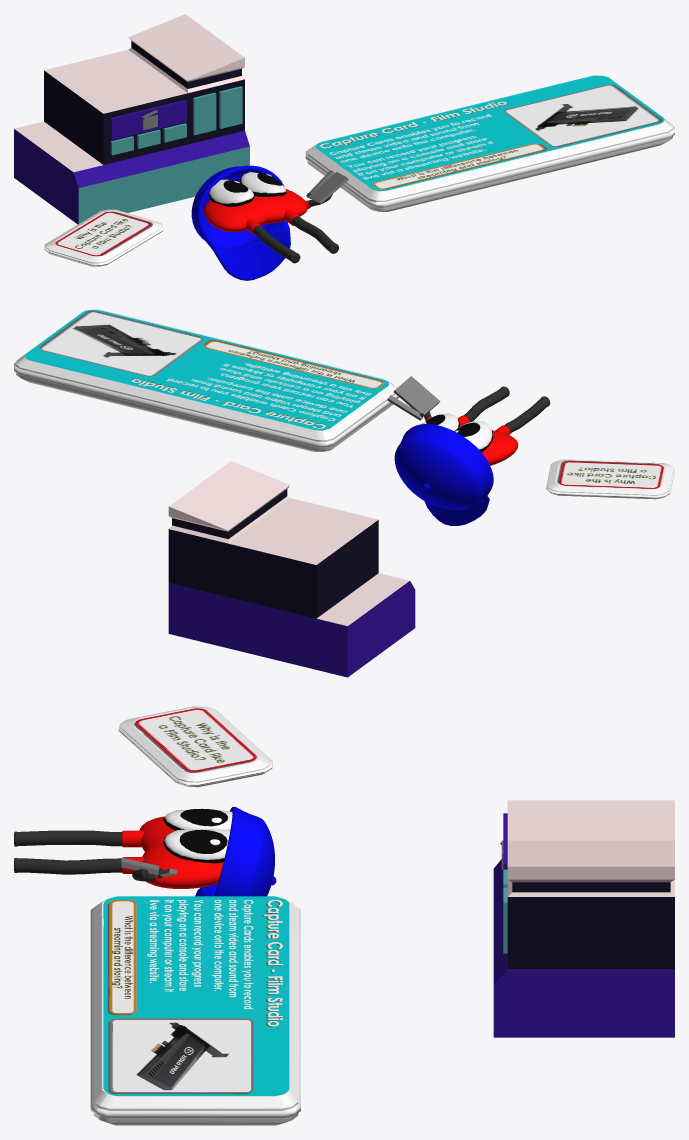
Rendered from combined_capture_card.obj.
3 renders of one model, top to bottom at view 1: azimuth 30°, elevation 25°; view 2: azimuth 150°, elevation 25°; view 3: azimuth 270°, elevation 25°, orthographic. The views are drawn at different scales.
Visible parts, largest first — view 1: mod_studio, capture1, char_9, capture2; view 2: mod_studio, capture1, char_9, capture2; view 3: capture1, mod_studio, char_9, capture2.
Boxes of the visible parts, bbox=[...] form: mod_studio: bbox=[14, 14, 249, 224]; capture1: bbox=[305, 75, 674, 211]; char_9: bbox=[191, 165, 348, 280]; capture2: bbox=[44, 209, 163, 266]; mod_studio: bbox=[168, 461, 415, 677]; capture1: bbox=[14, 309, 399, 451]; char_9: bbox=[387, 376, 550, 525]; capture2: bbox=[546, 459, 674, 499]; capture1: bbox=[90, 896, 300, 1125]; mod_studio: bbox=[493, 800, 674, 1037]; char_9: bbox=[14, 806, 276, 896]; capture2: bbox=[118, 706, 272, 787].
Size of the model in its own units: 15.42 by 3.02 by 10.56.
15 materials, 2 textured.
